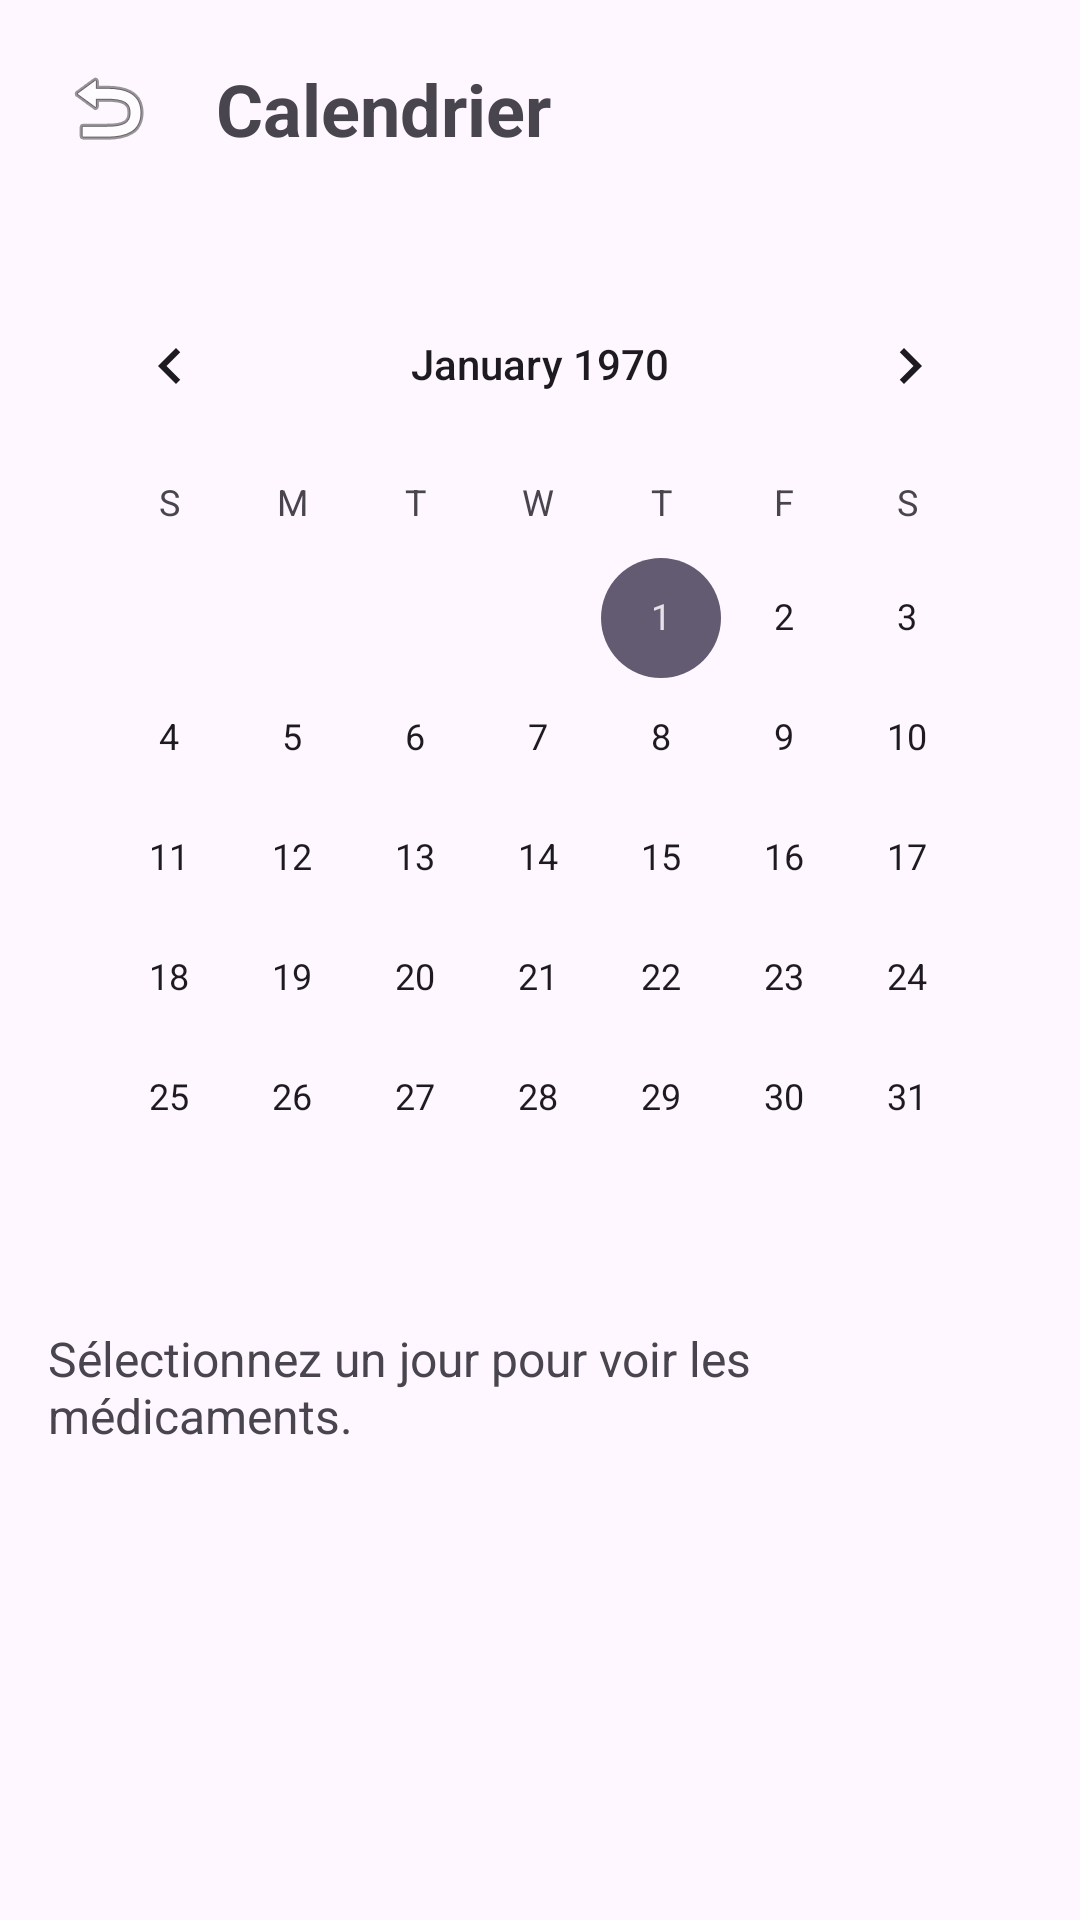

Locate icon controls on the screen. Image size 1080w x 1920h, boxes as (x1,y1,x2,y2).
Retour: (75,77,144,140)
